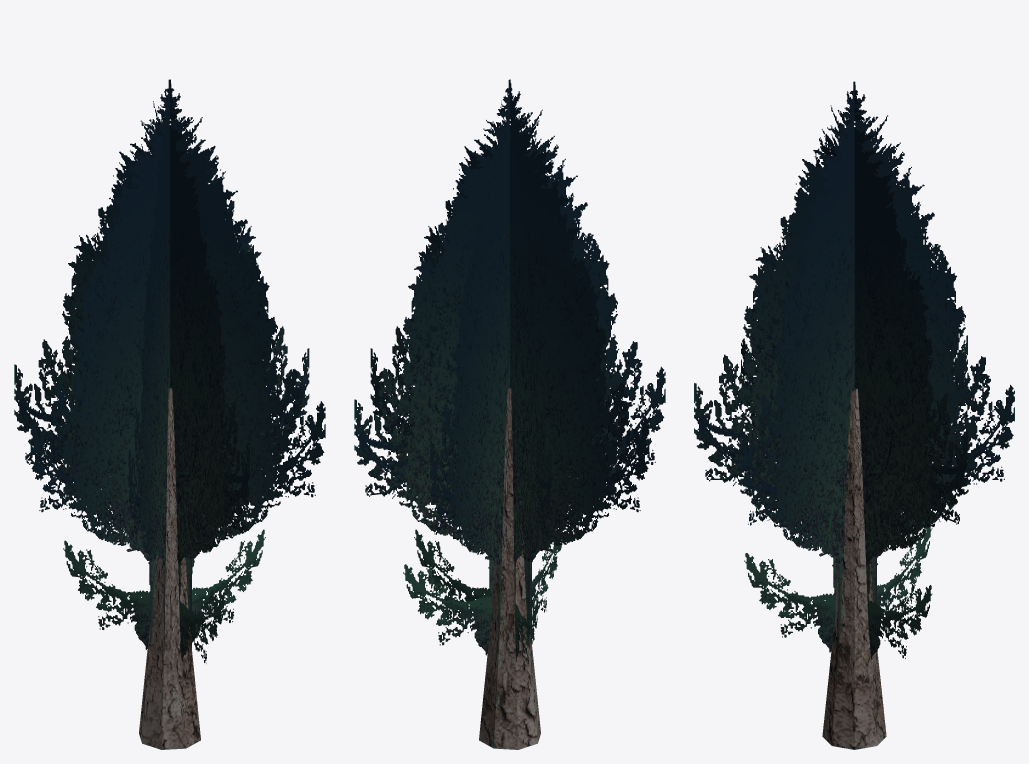
The model's file is tree_1.obj.
3 views of the same model, side by side, from view 1: azimuth 30°, elevation 25°; view 2: azimuth 150°, elevation 25°; view 3: azimuth 270°, elevation 25° (orthographic).
Visible parts, largest first — view 1: Plane.001, Plane, Plane.002, Plane.003, Cylinder.001; view 2: Plane.003, Plane, Plane.002, Plane.001, Cylinder.001; view 3: Plane.002, Plane.003, Plane.001, Cylinder.001.
Part boxes in pixels (bbox=[...]): Plane.001: bbox=[14, 79, 325, 649]; Plane: bbox=[30, 79, 309, 649]; Plane.002: bbox=[136, 80, 250, 663]; Plane.003: bbox=[128, 83, 194, 654]; Cylinder.001: bbox=[139, 387, 200, 749]; Plane.003: bbox=[354, 79, 665, 655]; Plane: bbox=[370, 83, 649, 649]; Plane.002: bbox=[429, 79, 562, 651]; Plane.001: bbox=[497, 80, 551, 666]; Cylinder.001: bbox=[479, 387, 540, 749]; Plane.002: bbox=[694, 81, 1014, 652]; Plane.003: bbox=[741, 82, 967, 659]; Plane.001: bbox=[741, 85, 967, 648]; Cylinder.001: bbox=[822, 387, 886, 749].
Bounding box in the file's own units: 10 × 22.51 × 10.
Materials: 1 (1 with a texture image).
